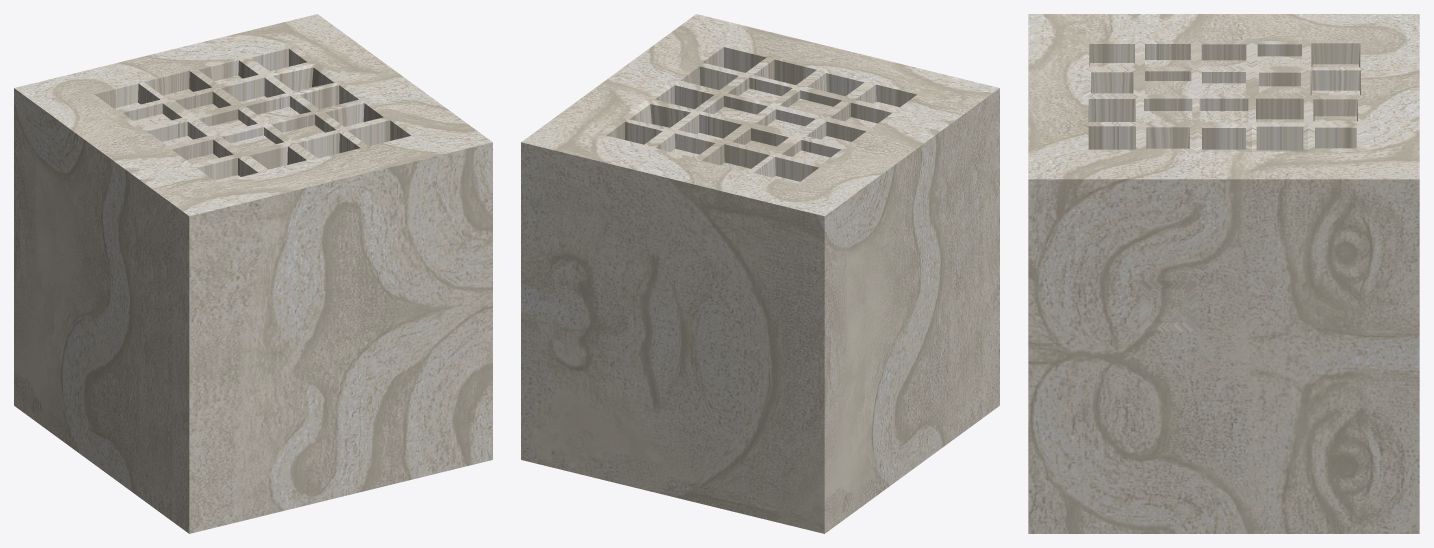
Rendered from cube-medusa.fbx.
The picture shows the model from 3 angles, left to right: view 1: azimuth 30°, elevation 25°; view 2: azimuth 150°, elevation 25°; view 3: azimuth 270°, elevation 25°; orthographic projection. The views are drawn at different scales.
Visible parts, largest first — view 1: Cube; view 2: Cube; view 3: Cube.
Boxes of the visible parts, box(x1,y1,x2,y2) form: Cube: box(14, 14, 492, 533); Cube: box(521, 14, 999, 533); Cube: box(1028, 14, 1419, 533).
Bounding box in the file's own units: 200 × 200 × 200.
